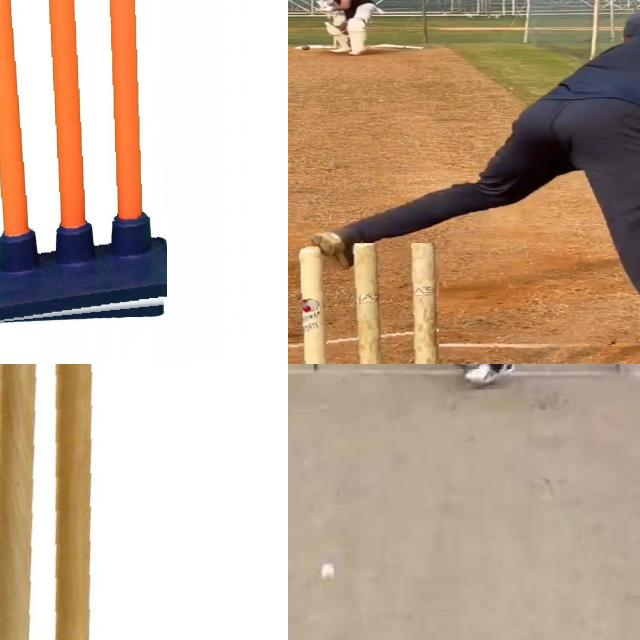Cricket ball: (320, 562, 336, 584), (302, 46, 311, 50)
Stumps: (0, 0, 166, 324), (0, 364, 97, 640), (291, 243, 438, 364)
